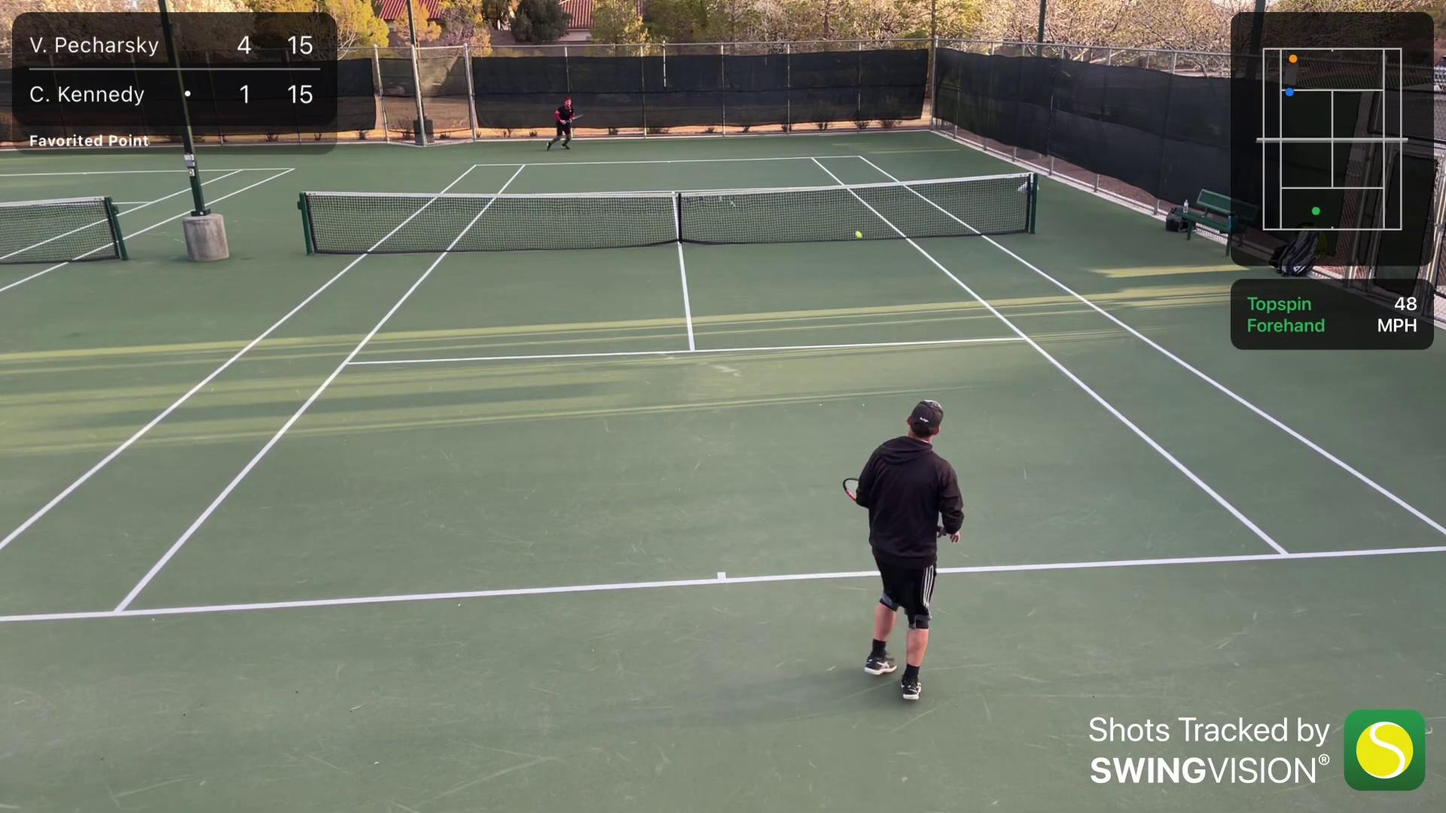ball: (853, 230, 865, 240)
